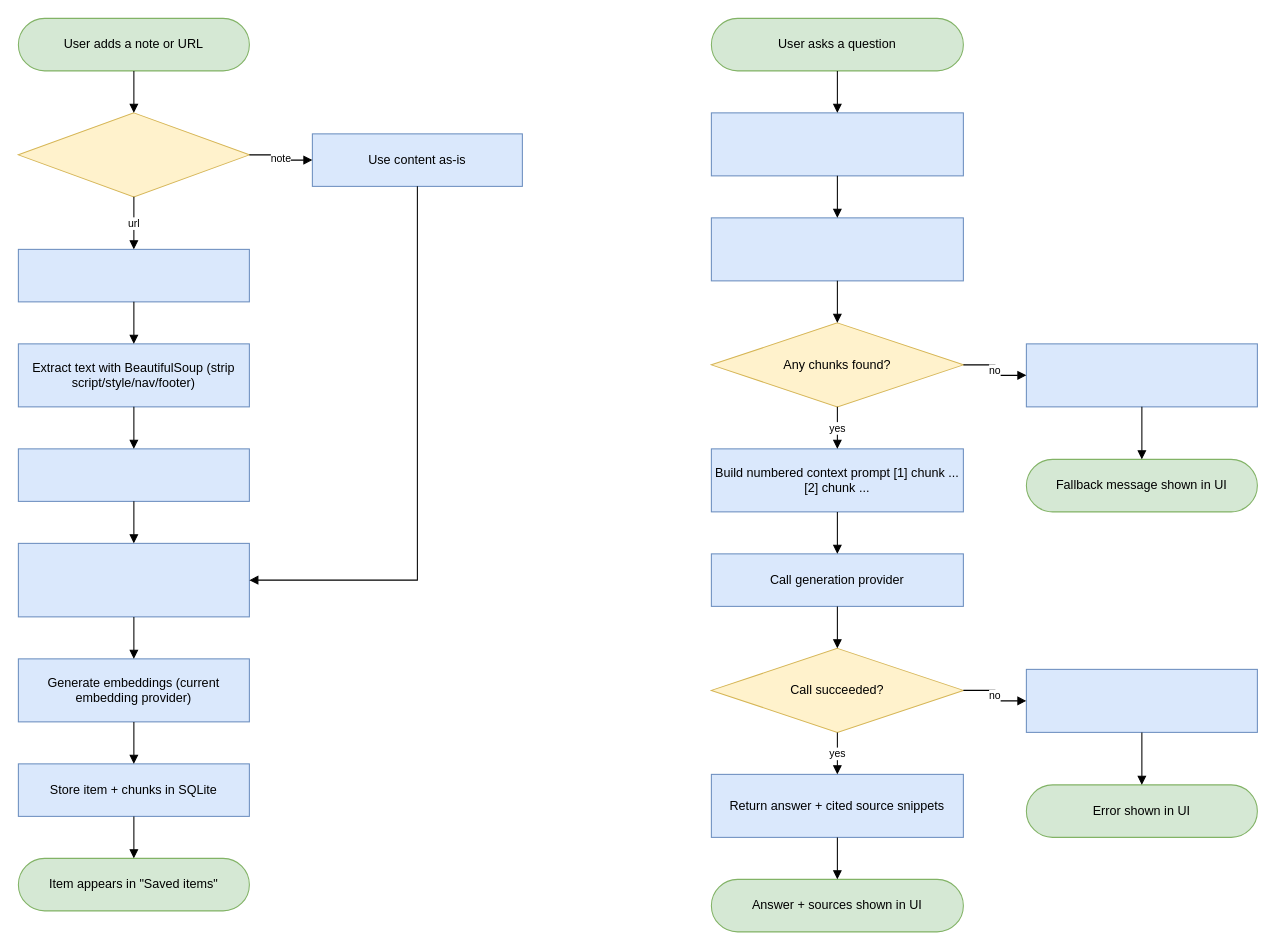
Image size: 1276x950. Some labels were removed from this diagram. Each missing label, with the box of its shape:
Cap extracted text at 100k chars: (17, 448, 249, 501)
Chunk text (word-boundary sliding window, size/overlap from runtime settings): (17, 542, 249, 617)
Cosine-similarity search over all stored chunks (numpy), take top_k: (710, 217, 963, 281)
Embed the question (same embedding provider used at ingest): (710, 112, 963, 176)
Fetch URL server-side (httpx): (17, 248, 249, 302)
Return 502 ProviderError with upstream message: (1025, 668, 1257, 732)
Return fixed fallback message (no LLM call made): (1025, 343, 1257, 407)
source_type?: (17, 112, 249, 197)
